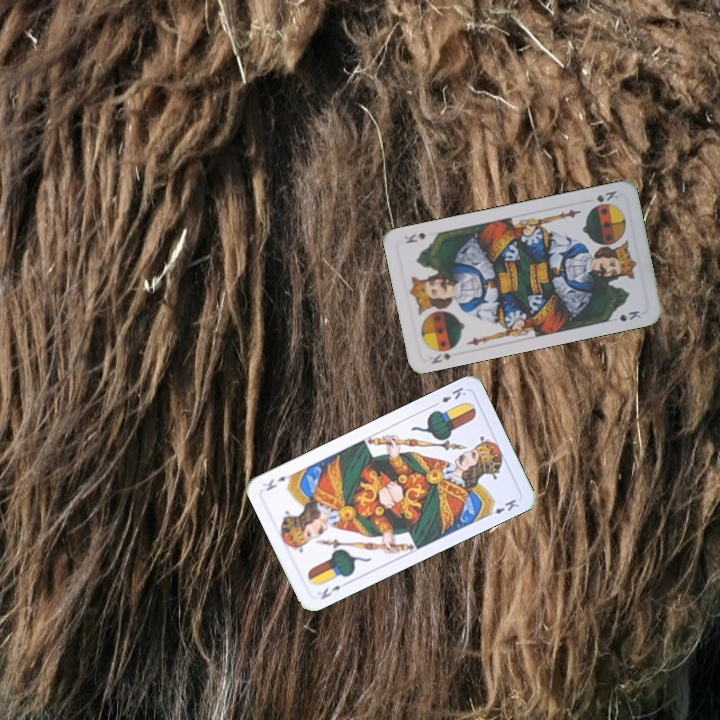EK: (429, 383, 469, 409), (316, 581, 343, 602)
SK: (425, 348, 463, 367), (592, 186, 621, 205)
